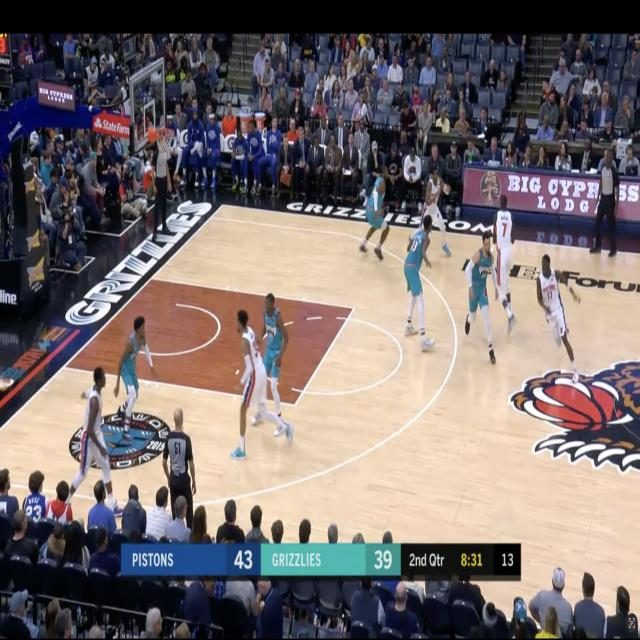no foul: (212, 279, 303, 476), (453, 190, 529, 384)
